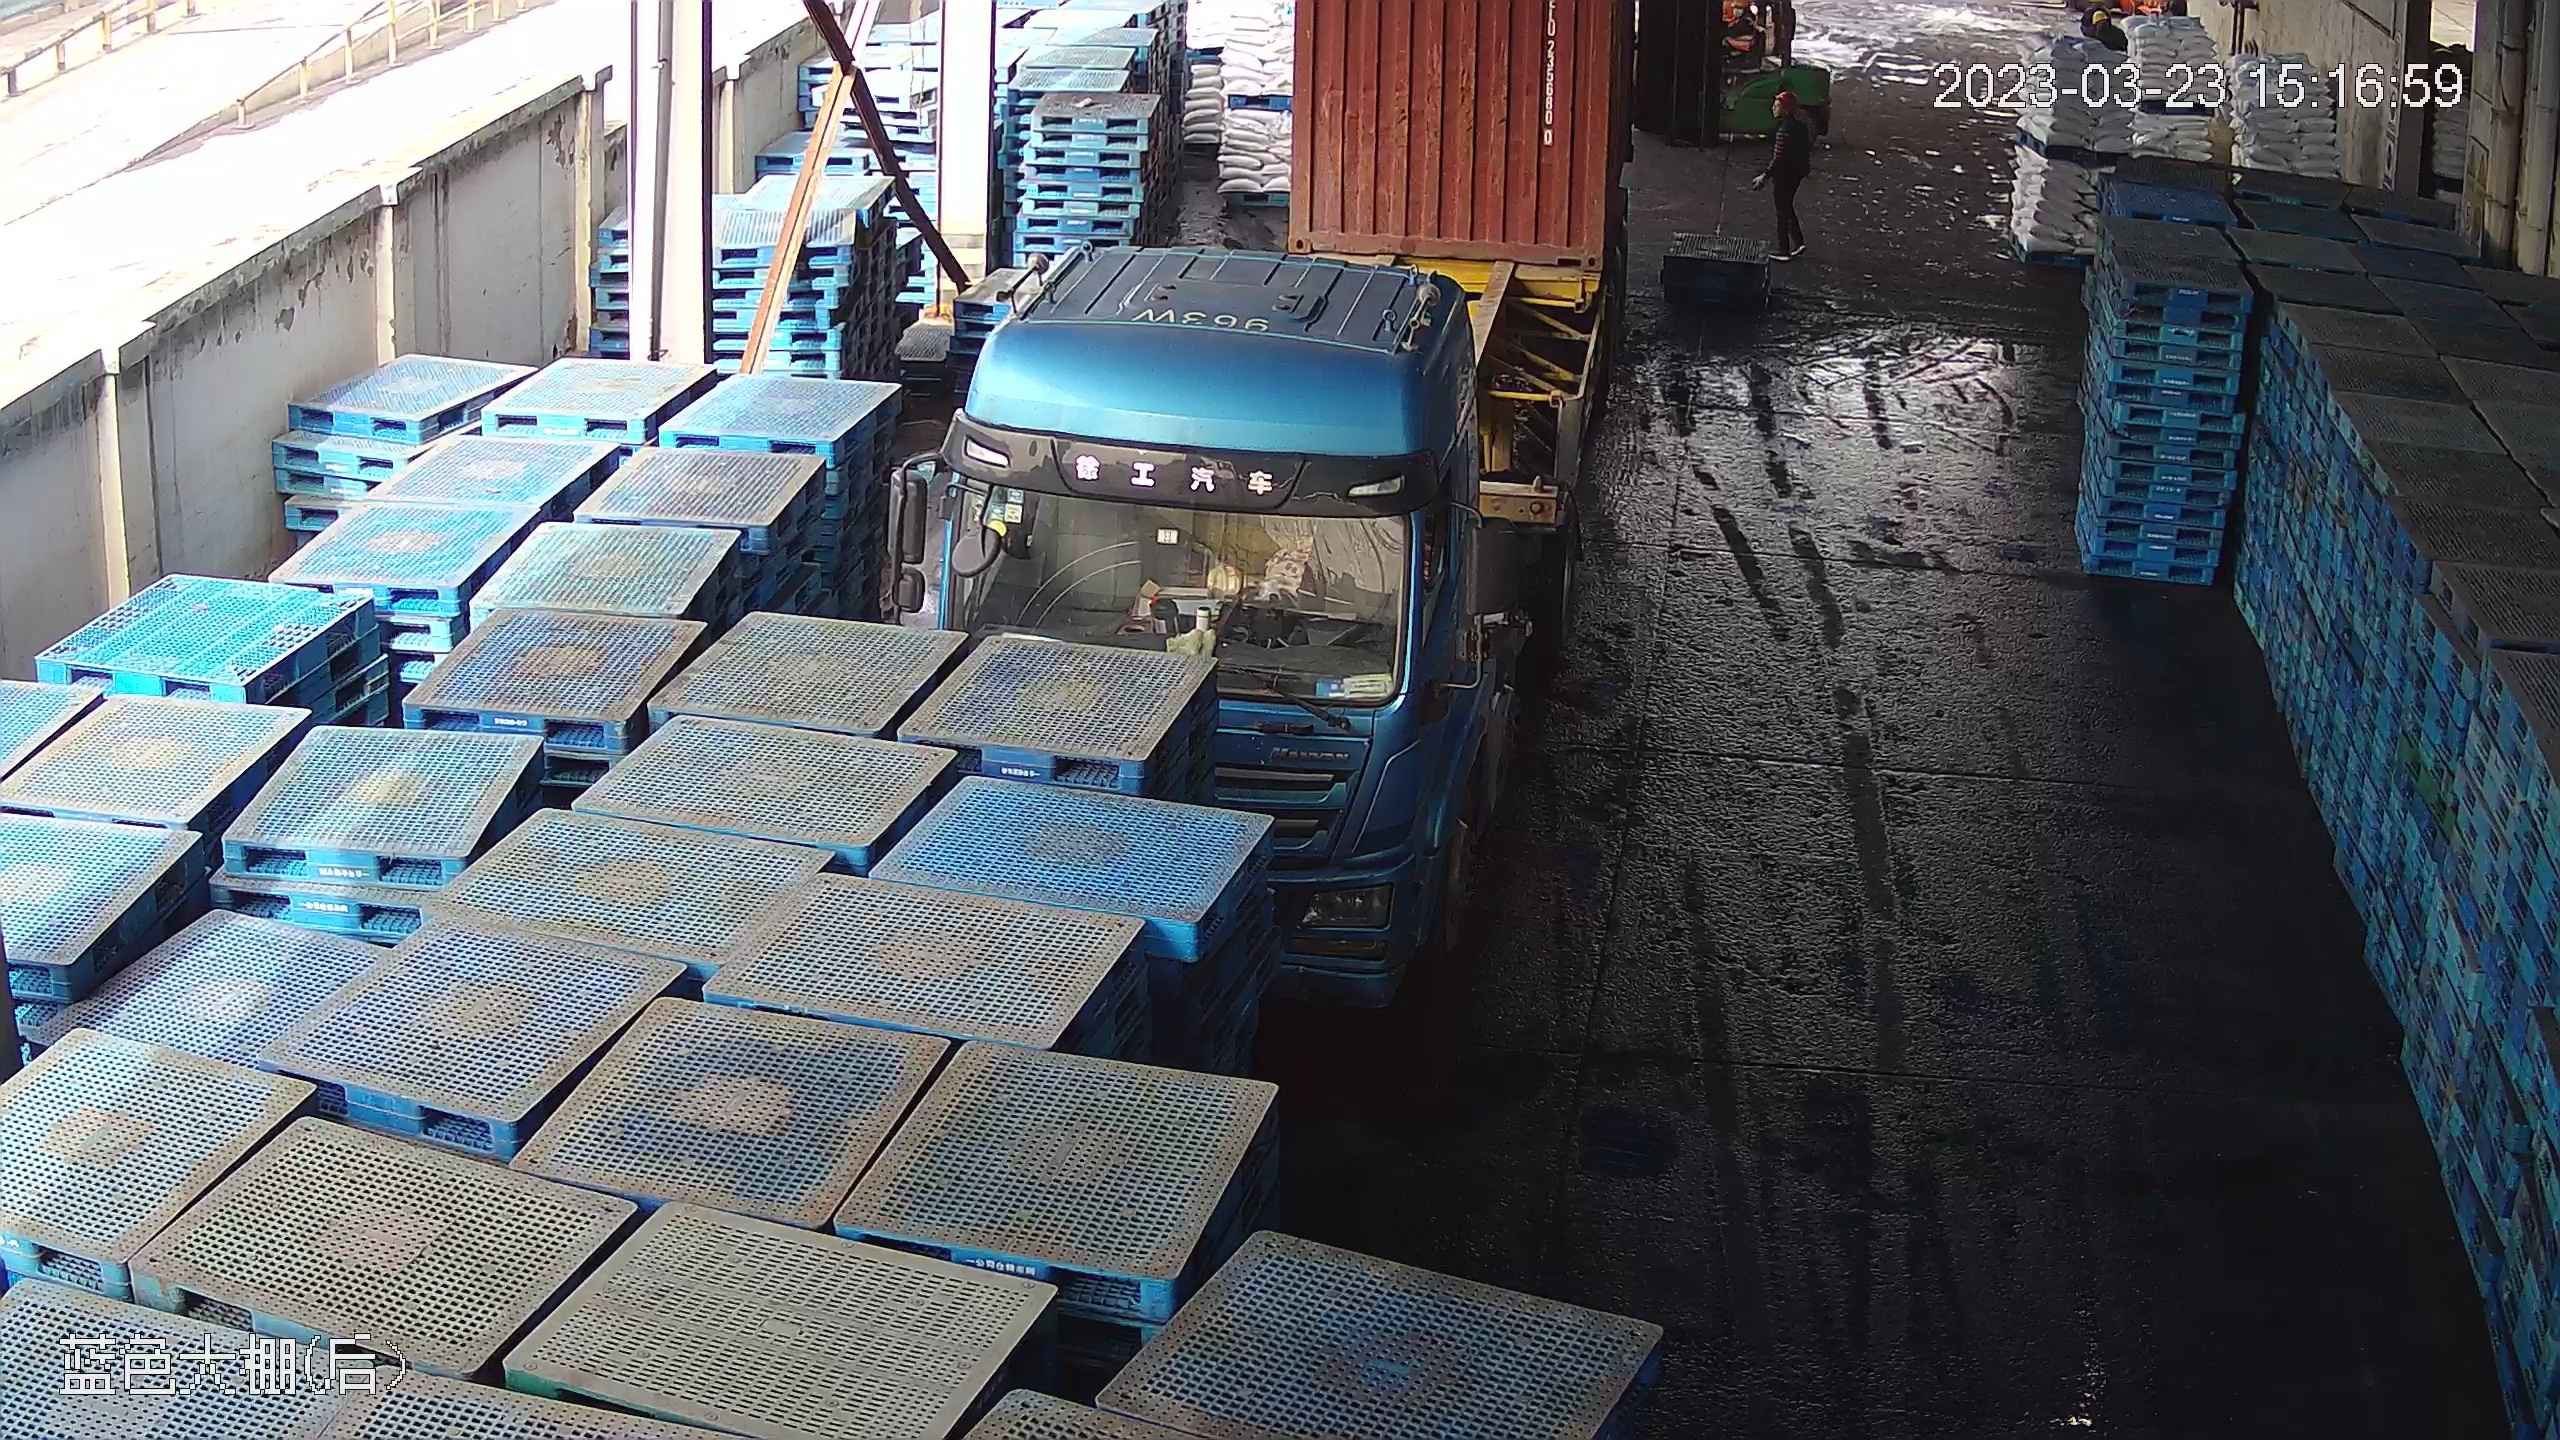head: (1768, 84, 1811, 148)
helmet: (1777, 91, 1800, 118)
people: (1764, 87, 1817, 254)
truck: (907, 1, 1592, 909)
